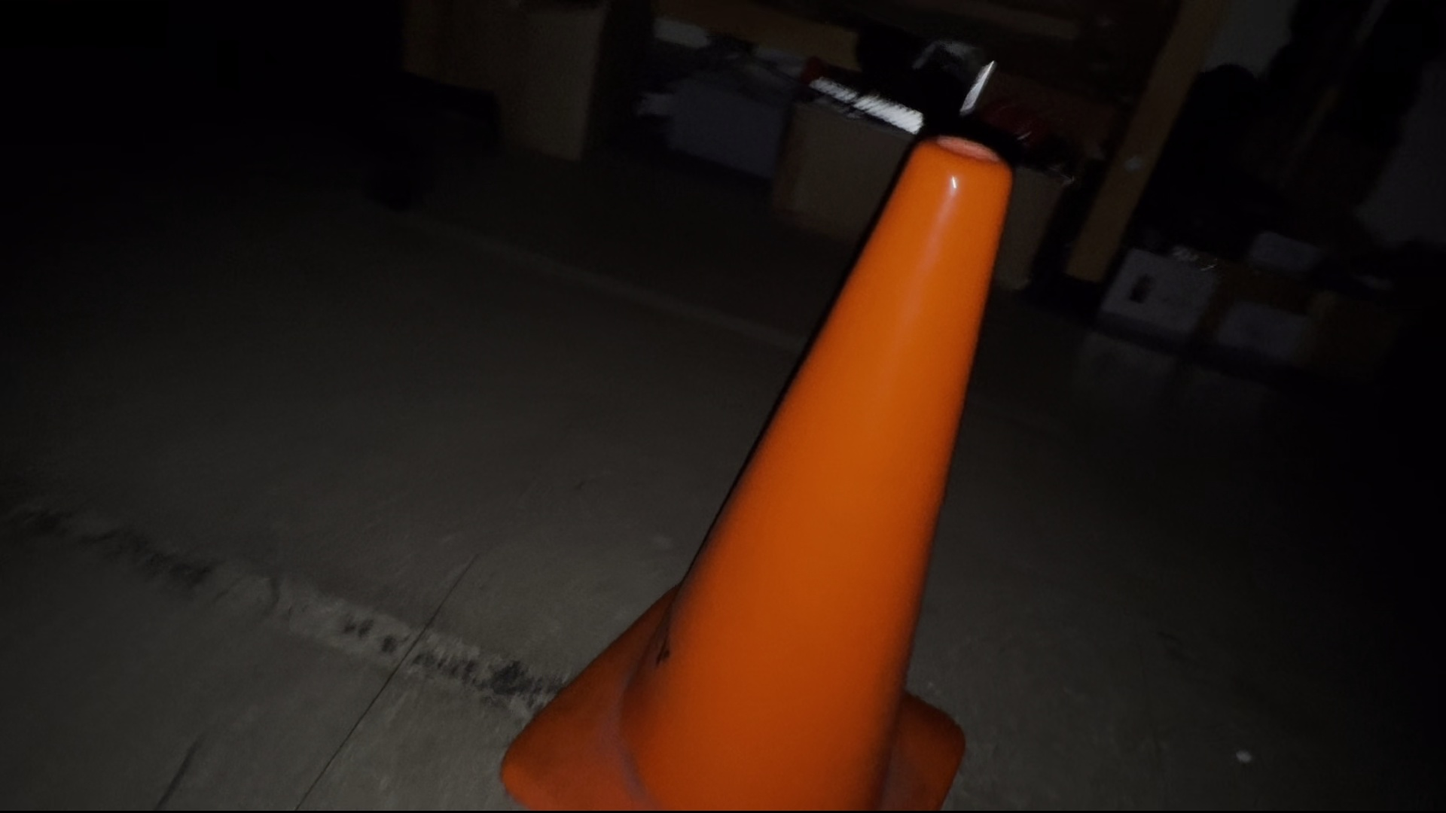traffic_cone: (498, 132, 1014, 811)
